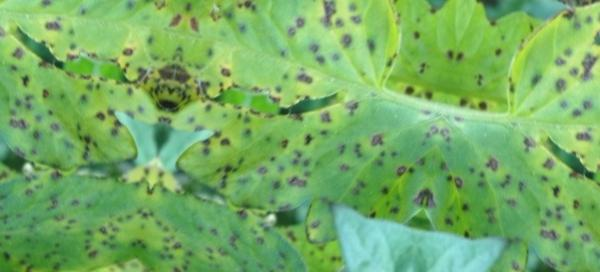Tomato Septoria leaf spot: (147, 0, 477, 258), (114, 190, 339, 272)
